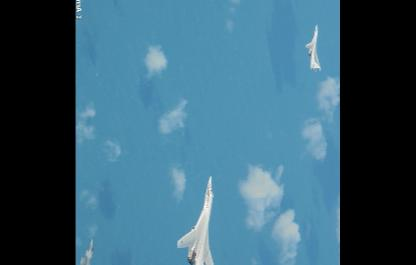Mig31: (177, 175, 224, 264), (306, 24, 322, 73)
Mirage2000: (80, 238, 95, 264)
